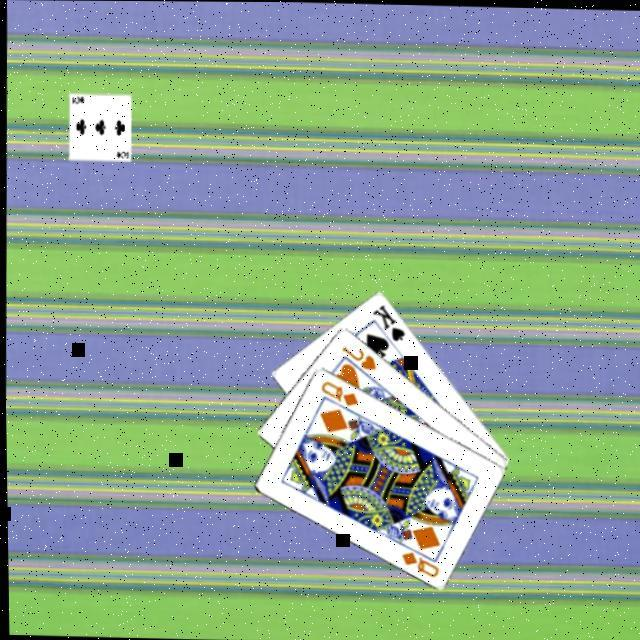JH: (334, 340, 376, 370)
KS: (366, 298, 406, 341)
QD: (394, 546, 438, 578), (314, 376, 358, 406)
